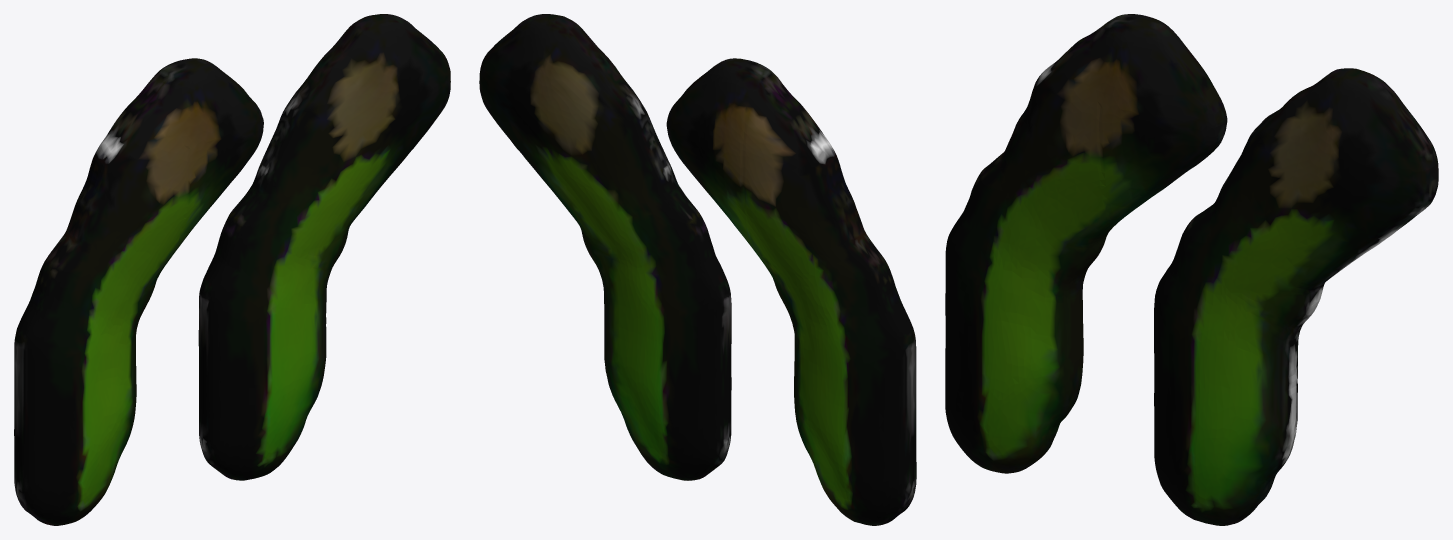
File: elvenboots.glb
3 views of the same model, side by side, from view 1: azimuth 30°, elevation 25°; view 2: azimuth 150°, elevation 25°; view 3: azimuth 330°, elevation 25° (orthographic). The views are drawn at different scales.
Visible parts, largest first — view 1: geometry_0; view 2: geometry_0; view 3: geometry_0.
Boxes of the visible parts, x1,y1,x2,y2 form: geometry_0: (14,14,450,525); geometry_0: (479,14,916,525); geometry_0: (945,14,1438,525).
Bounding box in the file's own units: 0.6534 × 0.625 × 0.0998.
